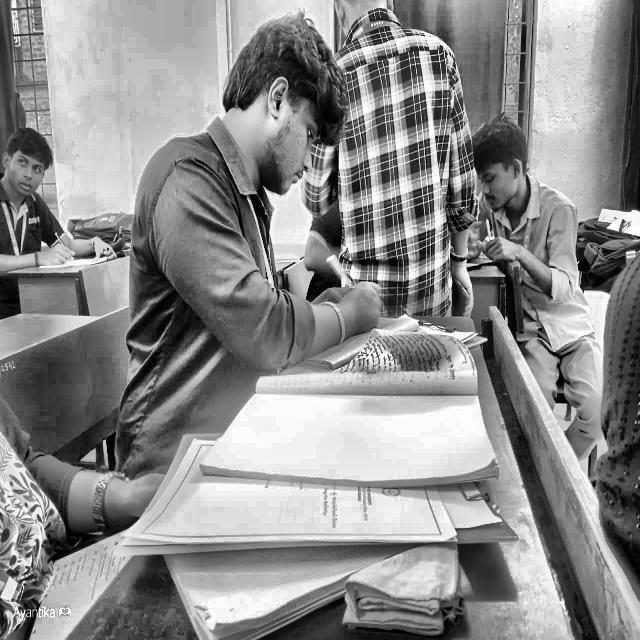Focus: (196, 21, 373, 272), (473, 114, 538, 222)
Not Focus: (4, 103, 58, 208)
